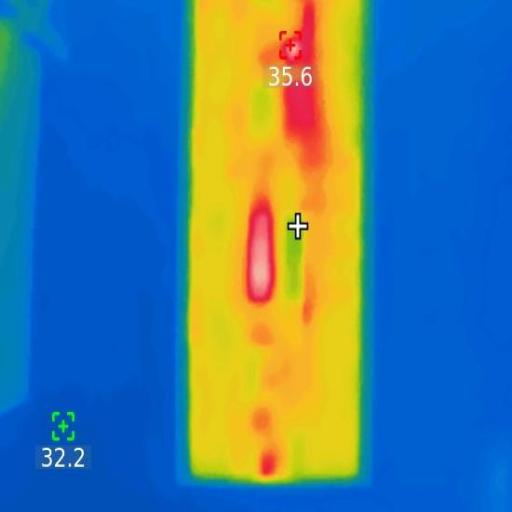hotspot: (284, 36, 326, 152), (250, 200, 274, 309)
